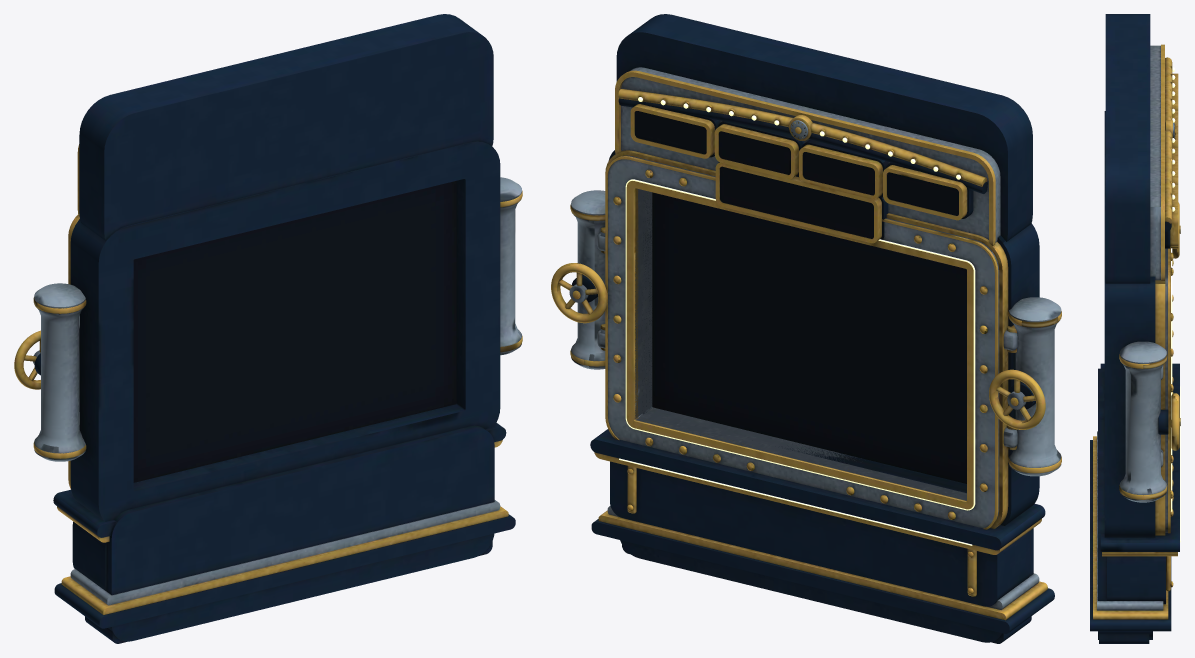
3 renders of one model, left to right at view 1: azimuth 30°, elevation 25°; view 2: azimuth 150°, elevation 25°; view 3: azimuth 270°, elevation 25°, orthographic. The views are drawn at different scales.
Parts seen in each view (by area): view 1: navy_enamel, uniform_dark_display, brushed_vault_steel, polished_honey_gold; view 2: uniform_dark_display, navy_enamel, brushed_vault_steel, polished_honey_gold, warm_bulb_trim_glow; view 3: navy_enamel, brushed_vault_steel, polished_honey_gold, warm_bulb_trim_glow.
Boxes of the visible parts, x1,y1,x2,y2 form: navy_enamel: [34, 14, 515, 643]; uniform_dark_display: [133, 181, 456, 482]; brushed_vault_steel: [33, 177, 521, 605]; polished_honey_gold: [14, 144, 522, 614]; uniform_dark_display: [635, 111, 966, 483]; navy_enamel: [572, 14, 1054, 643]; brushed_vault_steel: [569, 67, 1061, 609]; polished_honey_gold: [551, 70, 1061, 620]; warm_bulb_trim_glow: [619, 97, 975, 545]; navy_enamel: [1090, 14, 1179, 643]; brushed_vault_steel: [1097, 45, 1174, 610]; polished_honey_gold: [1093, 44, 1180, 619]; warm_bulb_trim_glow: [1171, 67, 1180, 542].
Bounding box in the file's own units: 10.21 × 10.4 × 1.81.
5 materials, 4 textured.
